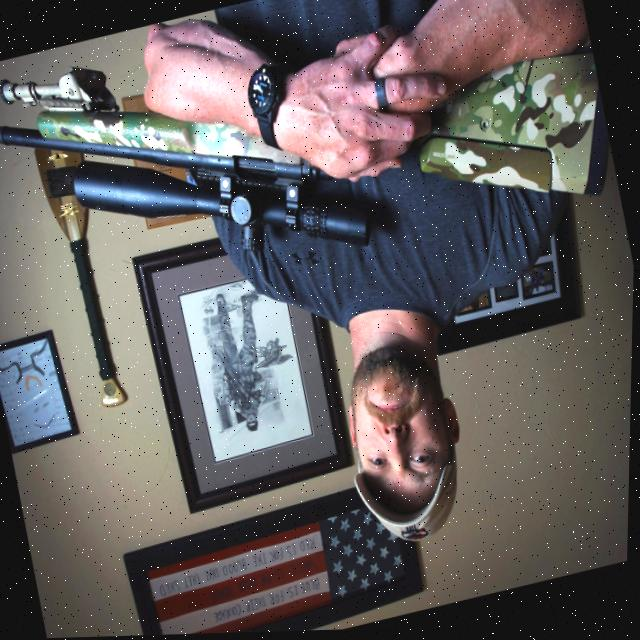firearm: (0, 0, 623, 342)
